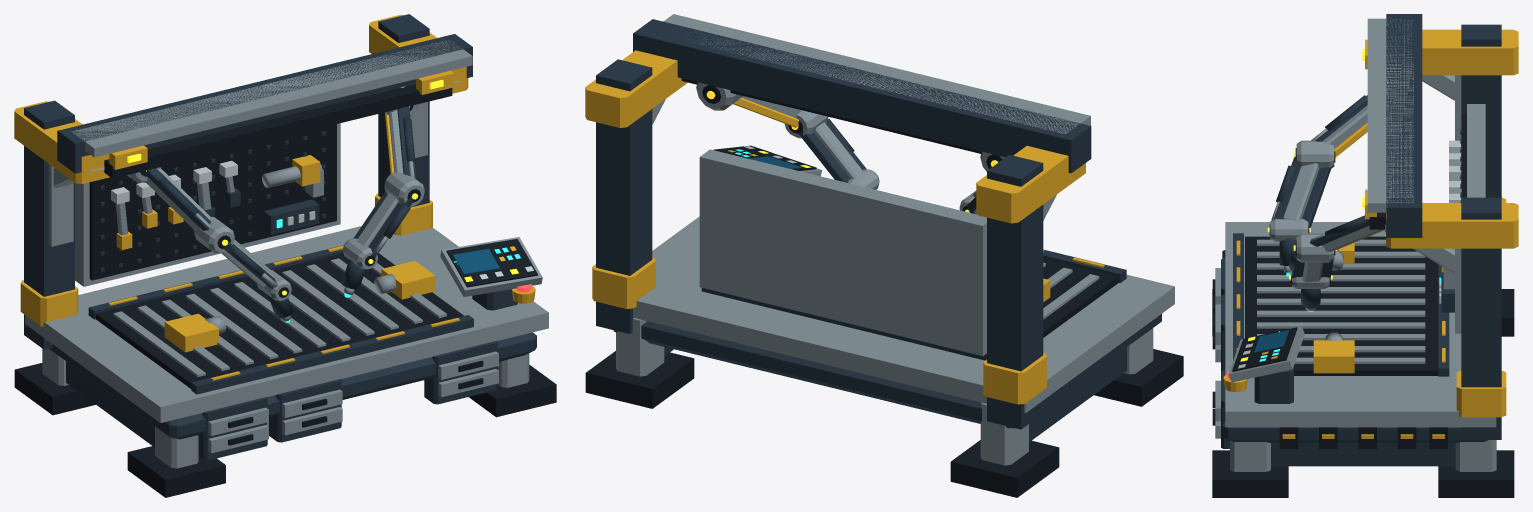
File: fabrication_rig.glb
The picture shows the model from 3 angles, left to right: view 1: azimuth 30°, elevation 25°; view 2: azimuth 150°, elevation 25°; view 3: azimuth 270°, elevation 25°; orthographic projection. The views are drawn at different scales.
Parts seen in each view (by area): view 1: Load-bearing bench and fabrication bed, Overhead gantry frame and work lamp, Tool wall, brackets and hand tools, Cabinets and process cooling, Right articulated welding arm, Operator console and emergency shutoff, Left articulated welding arm; view 2: Overhead gantry frame and work lamp, Load-bearing bench and fabrication bed, Tool wall, brackets and hand tools, Right articulated welding arm, Operator console and emergency shutoff; view 3: Load-bearing bench and fabrication bed, Overhead gantry frame and work lamp, Left articulated welding arm, Operator console and emergency shutoff, Cabinets and process cooling, Tool wall, brackets and hand tools, Right articulated welding arm.
Part boxes in pixels (x1,y1,x2,y2): Load-bearing bench and fabrication bed: (14,226,556,497); Overhead gantry frame and work lamp: (14,14,472,349); Tool wall, brackets and hand tools: (75,123,340,286); Cabinets and process cooling: (198,341,498,460); Right articulated welding arm: (341,86,424,297); Operator console and emergency shutoff: (440,237,542,310); Left articulated welding arm: (127,167,292,322); Overhead gantry frame and work lamp: (585,14,1091,429); Load-bearing bench and fabrication bed: (585,216,1183,497); Tool wall, brackets and hand tools: (699,149,986,356); Right articulated welding arm: (696,82,879,189); Operator console and emergency shutoff: (713,145,821,176); Load-bearing bench and fabrication bed: (1212,222,1514,497); Overhead gantry frame and work lamp: (1362,14,1518,439); Left articulated welding arm: (1267,95,1367,276); Operator console and emergency shutoff: (1223,326,1304,403); Cabinets and process cooling: (1212,258,1447,448); Tool wall, brackets and hand tools: (1439,104,1485,312); Right articulated welding arm: (1289,215,1384,311).
Bounding box in the file's own units: 6 × 4.2 × 4.
